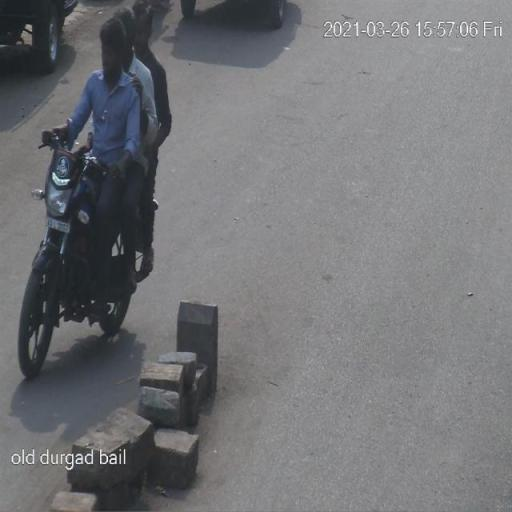tripple riding: (46, 0, 176, 178)
